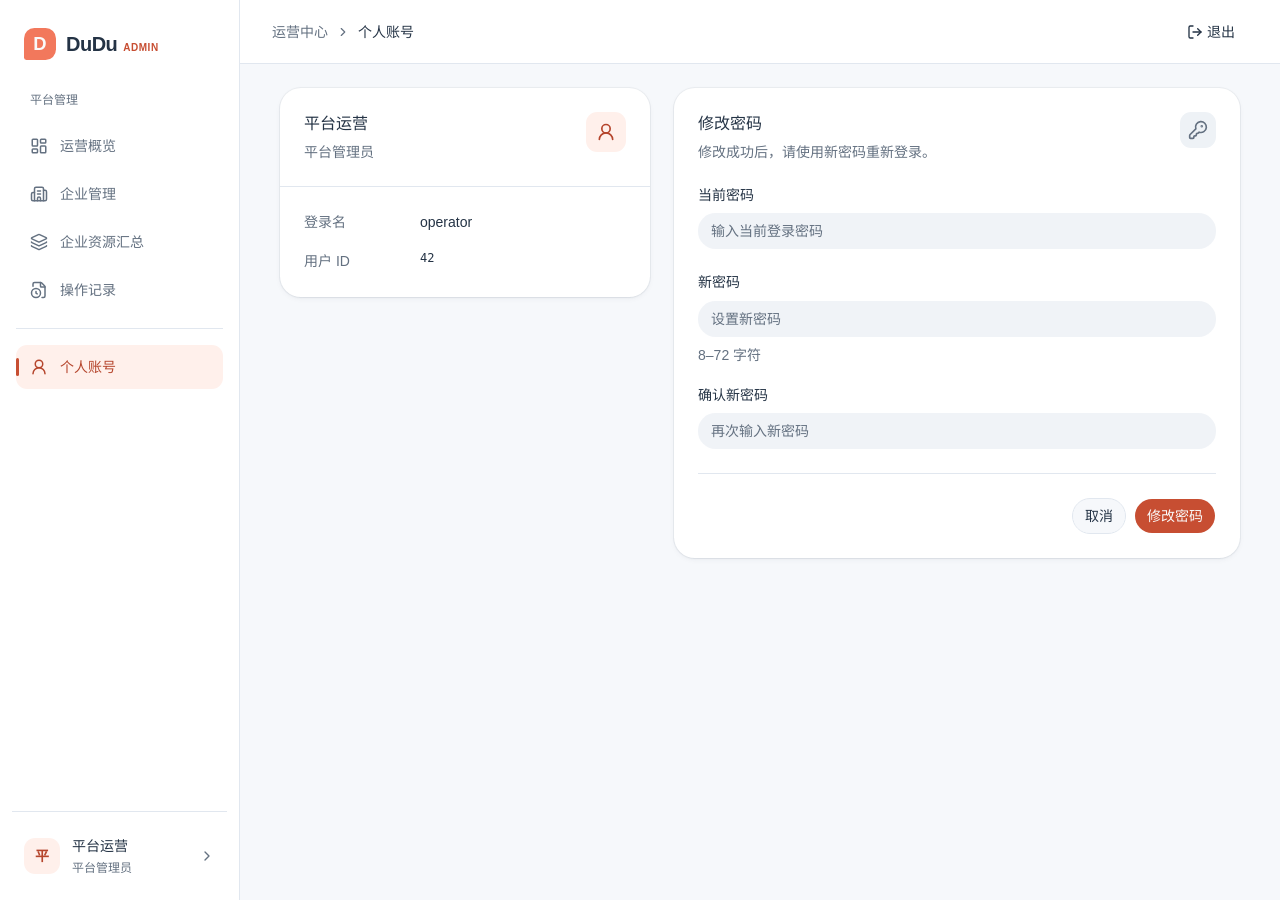
Scenario: 原密码错误保留表单，改密成功清除身份并要求重新登录
In the password field labelled "当前密码": [957, 231] box x1=698 y1=213 x2=1216 y2=249, type "old-password"
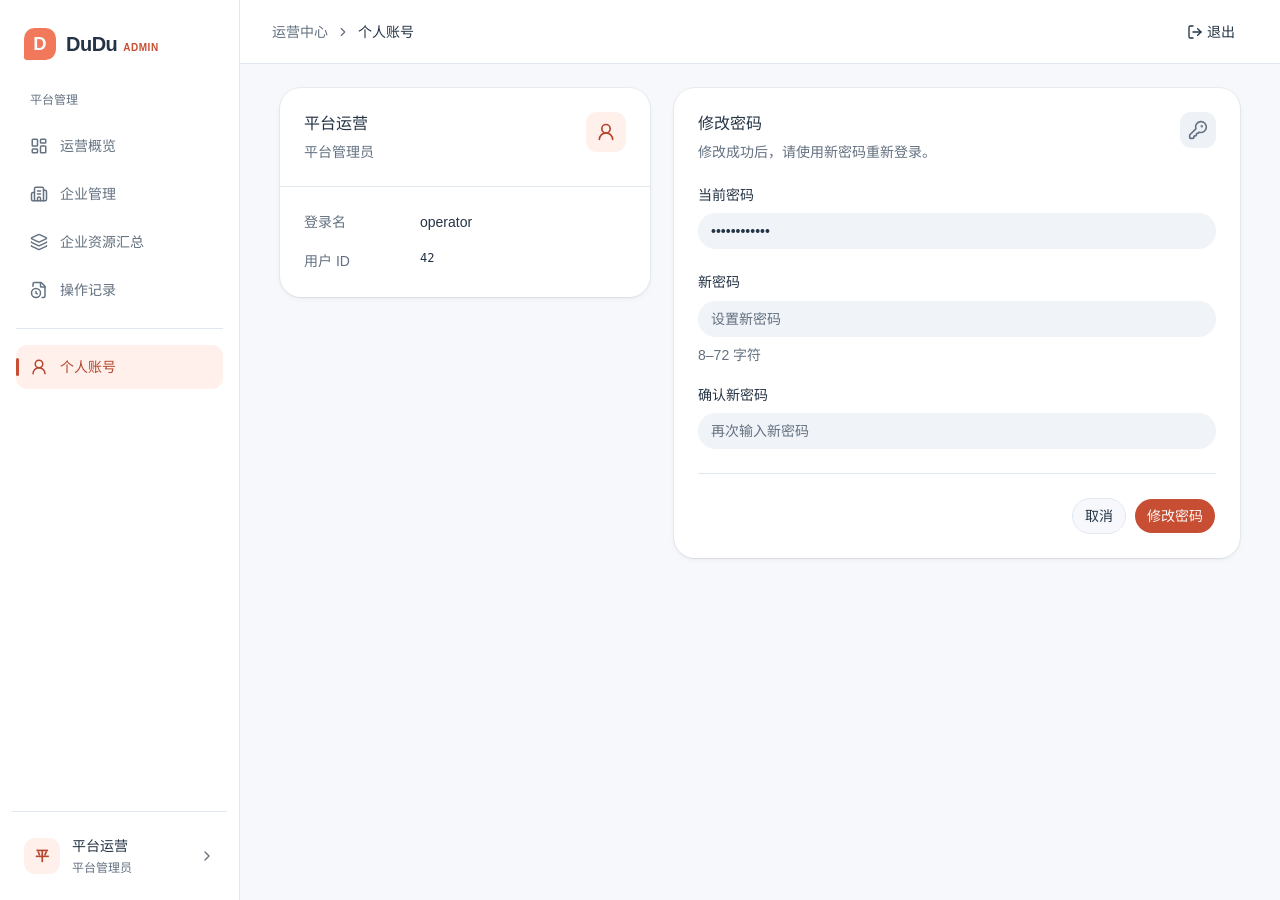
In the password field labelled "新密码": [957, 318] box x1=698 y1=300 x2=1216 y2=336, type "new-password"
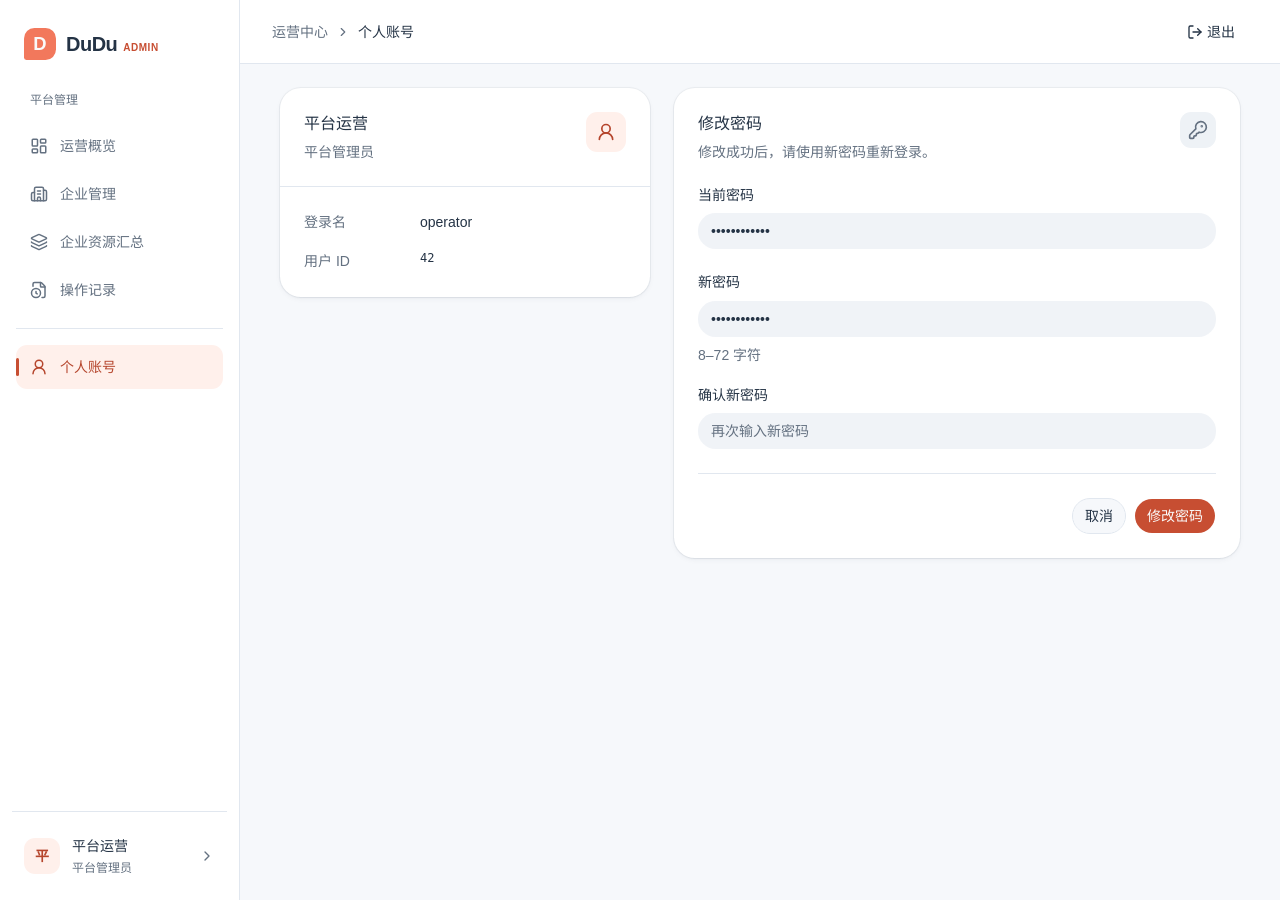
In the password field labelled "确认新密码": [957, 431] box x1=698 y1=413 x2=1216 y2=449, type "new-password"
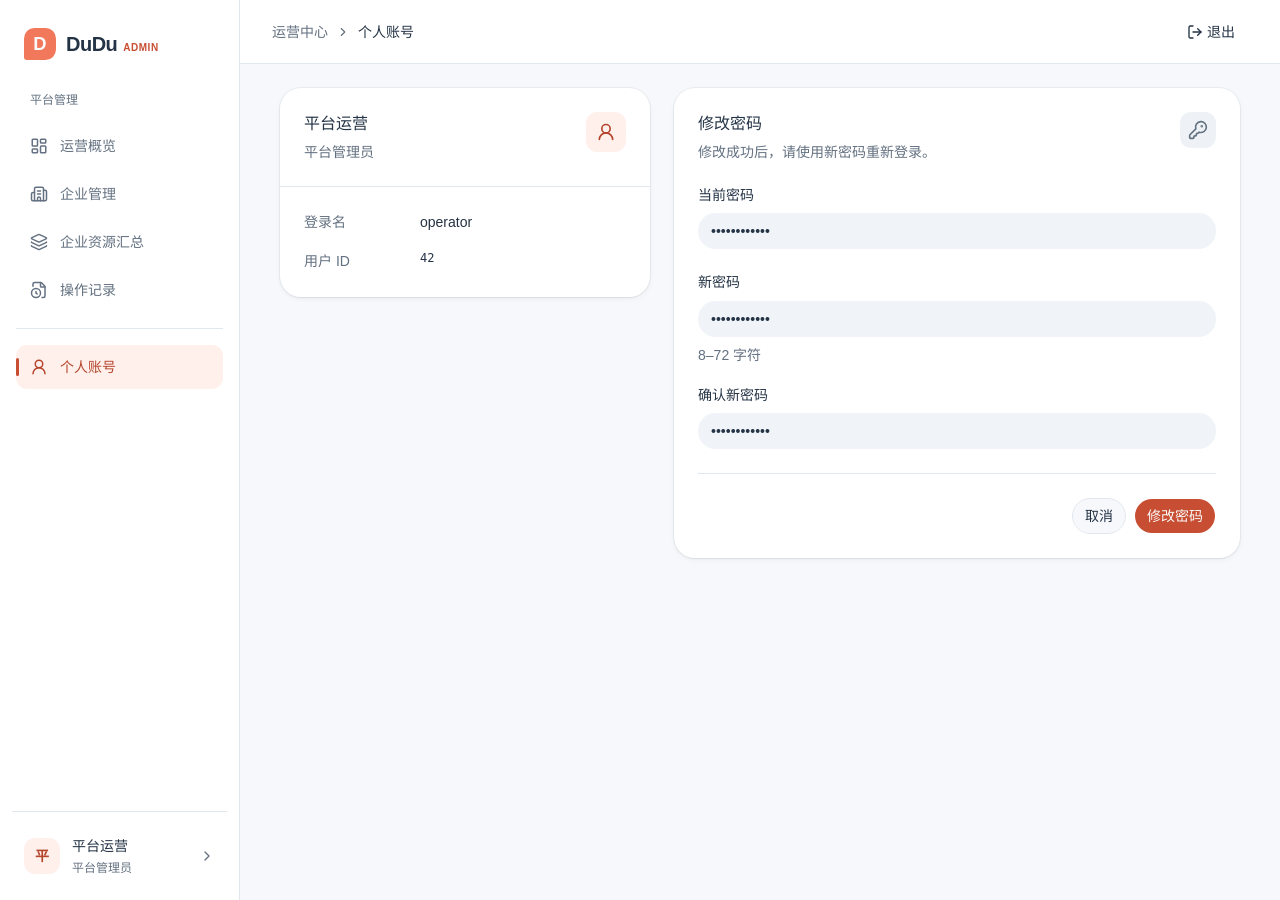
Click the button "修改密码": [1175, 516] box x1=1134 y1=498 x2=1216 y2=534
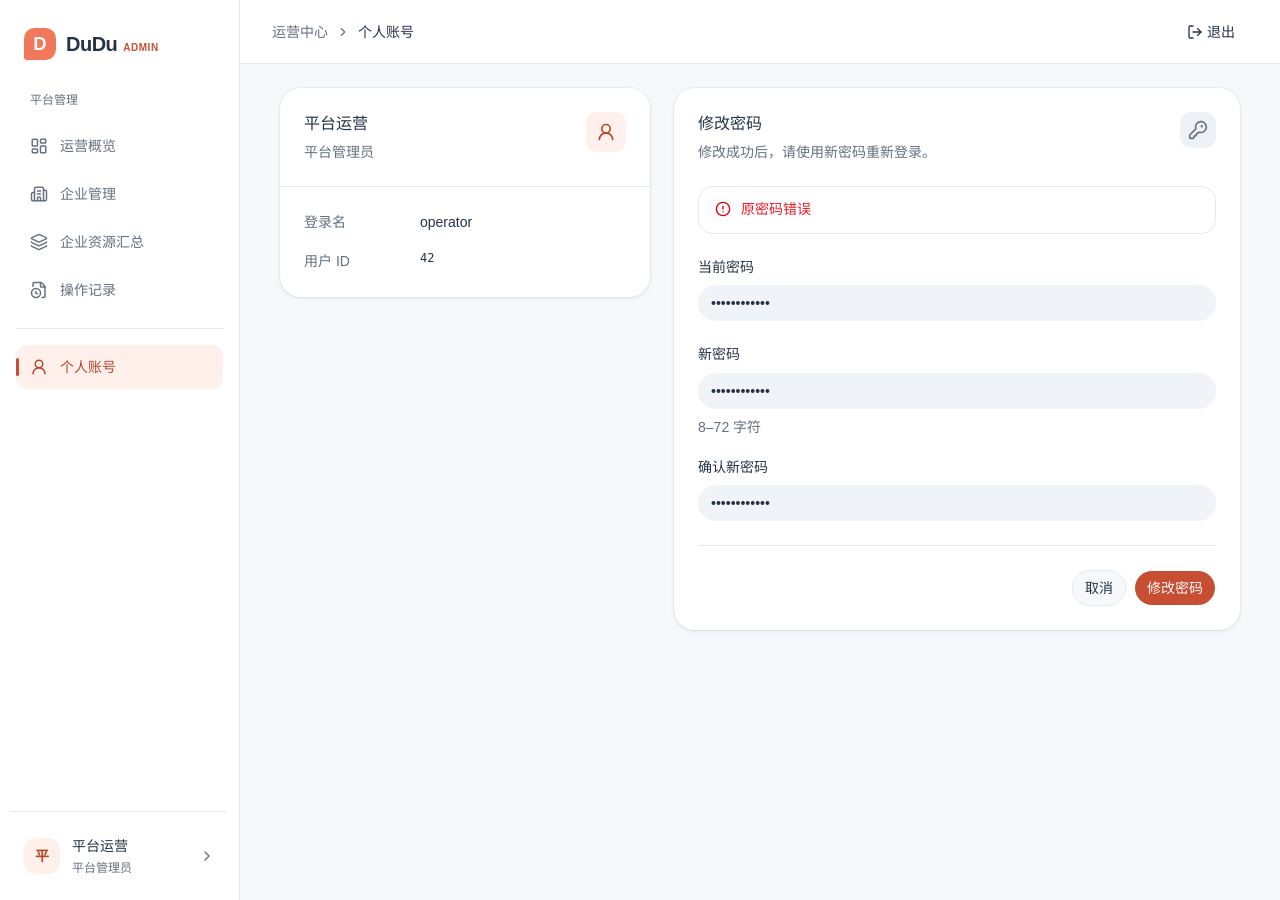
expect the message reads "原密码错误": met, box x1=741 y1=201 x2=811 y2=217
Click the button "修改密码": [1175, 588] box x1=1134 y1=570 x2=1216 y2=606
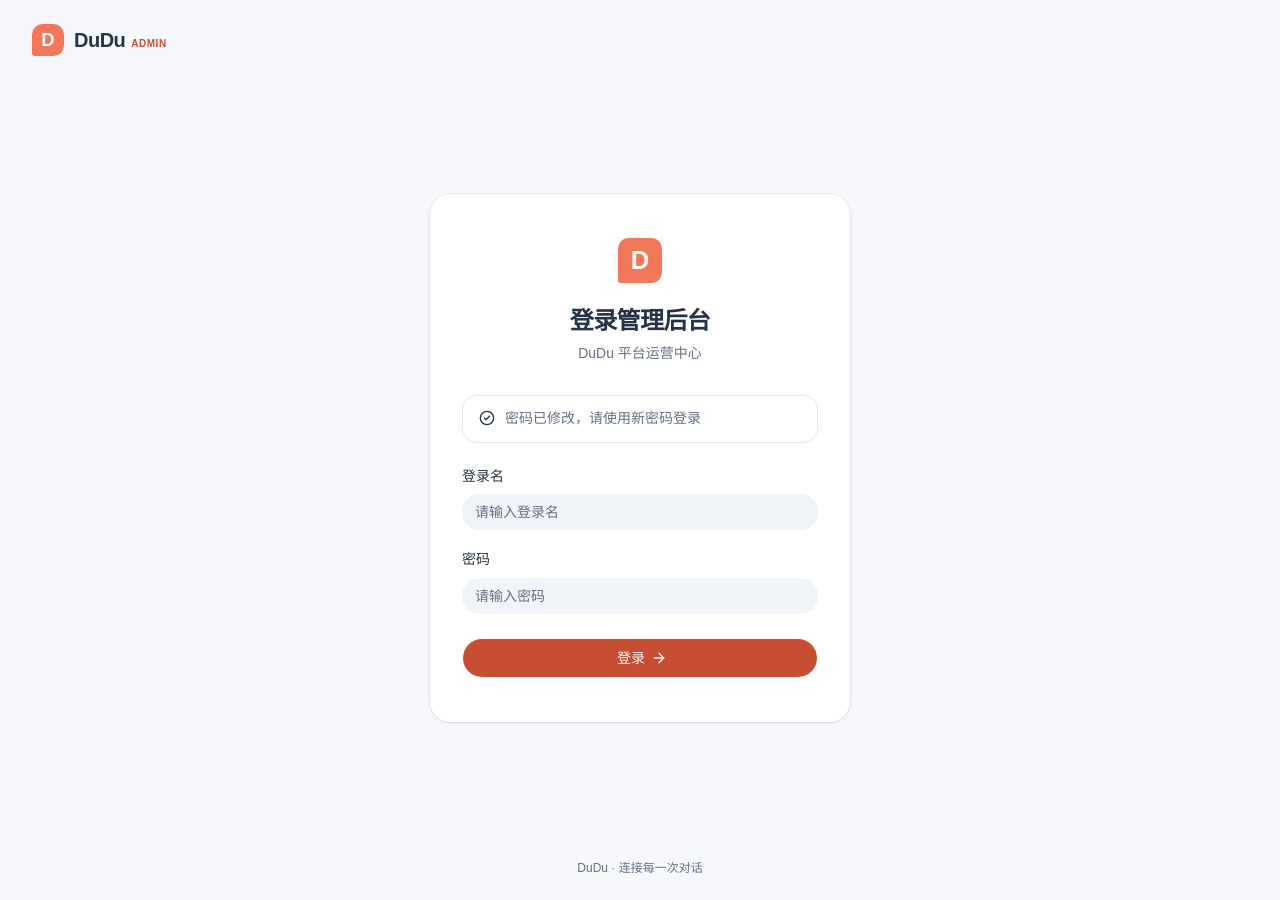
expect the heading "登录管理后台" is shown: met, box x1=570 y1=307 x2=710 y2=334
expect the message shows "密码已修改": met, box x1=505 y1=410 x2=701 y2=426
